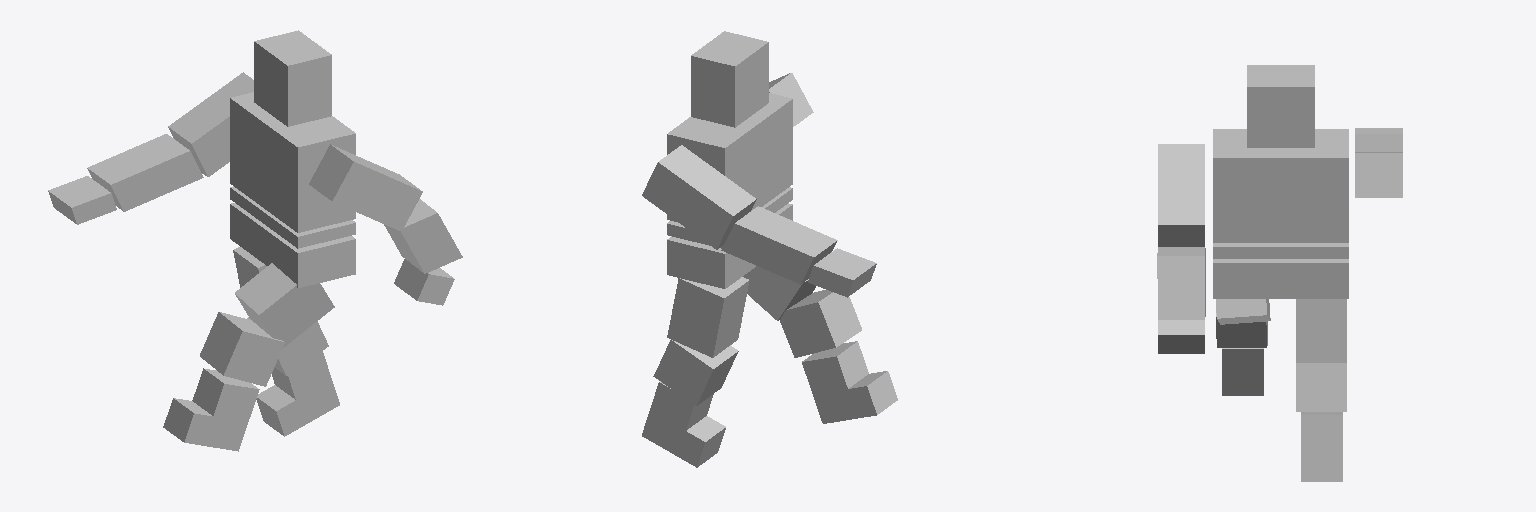
File: POne2.obj
3 views of the same model, side by side, from view 1: azimuth 30°, elevation 25°; view 2: azimuth 150°, elevation 25°; view 3: azimuth 270°, elevation 25° (orthographic).
Visible parts, largest first — view 1: pasted__pasted__pCube3 pasted__group3 group4, pCube4, pasted__pCube4 group6, pasted__pCube1 group5, pasted__pCube4 group8, pCube3, group2 pasted__pasted__pCube2 pasted__group1, pCube1, pasted__pCube2 group1, pasted__pCube4 group7, group8 pasted__pasted__pCube4 pasted__group6, pasted__pasted__pCube4 pasted__group8 group9 (+4 smaller); view 2: pasted__pasted__pCube3 pasted__group3 group4, pasted__pCube4 group7, pCube4, pasted__pCube1 group5, pasted__pCube4 group8, pasted__pCube2 group2, pCube1, pasted__pCube2 group1, pCube2, pCube3, pasted__pasted__pCube4 pasted__group8 group9, group2 pasted__pasted__pCube2 pasted__group1 (+2 smaller); view 3: pasted__pasted__pCube3 pasted__group3 group4, pCube4, pCube3, pasted__pCube4 group6, group8 pasted__pasted__pCube4 pasted__group6, pasted__pCube2 group2, pCube1, pCube2, pasted__pCube4 group7, pasted__pCube3 group3, pasted__pCube1 group5, pasted__group8 group9 pasted__pasted__pasted__pCube4 pasted__pas (+3 smaller).
Part boxes in pixels (left/top/right/bottom): pasted__pasted__pCube3 pasted__group3 group4: left=230, top=92, right=355, bottom=232; pCube4: left=254, top=30, right=331, bottom=126; pasted__pCube4 group6: left=309, top=144, right=422, bottom=231; pasted__pCube1 group5: left=163, top=368, right=259, bottom=451; pasted__pCube4 group8: left=87, top=134, right=203, bottom=211; pCube3: left=230, top=203, right=355, bottom=287; group2 pasted__pasted__pCube2 pasted__group1: left=235, top=263, right=334, bottom=347; pCube1: left=256, top=351, right=339, bottom=436; pasted__pCube2 group1: left=200, top=312, right=284, bottom=386; pasted__pCube4 group7: left=168, top=72, right=253, bottom=176; group8 pasted__pasted__pCube4 pasted__group6: left=384, top=199, right=462, bottom=273; pasted__pasted__pCube4 pasted__group8 group9: left=48, top=176, right=116, bottom=224; pasted__pasted__pCube3 pasted__group3 group4: left=667, top=93, right=792, bottom=221; pasted__pCube4 group7: left=642, top=145, right=756, bottom=249; pCube4: left=691, top=31, right=768, bottom=127; pasted__pCube1 group5: left=802, top=341, right=897, bottom=423; pasted__pCube4 group8: left=721, top=206, right=837, bottom=284; pasted__pCube2 group2: left=667, top=277, right=749, bottom=357; pCube1: left=642, top=381, right=725, bottom=467; pasted__pCube2 group1: left=780, top=290, right=861, bottom=357; pCube2: left=653, top=340, right=738, bottom=405; pCube3: left=667, top=203, right=792, bottom=288; pasted__pasted__pCube4 pasted__group8 group9: left=808, top=248, right=876, bottom=297; group2 pasted__pasted__pCube2 pasted__group1: left=743, top=266, right=815, bottom=320; pasted__pasted__pCube3 pasted__group3 group4: left=1213, top=129, right=1348, bottom=242; pCube4: left=1247, top=65, right=1314, bottom=147; pCube3: left=1213, top=259, right=1348, bottom=298; pasted__pCube4 group6: left=1158, top=144, right=1204, bottom=246; group8 pasted__pasted__pCube4 pasted__group6: left=1157, top=247, right=1205, bottom=319; pasted__pCube2 group2: left=1296, top=299, right=1346, bottom=362; pCube1: left=1301, top=412, right=1342, bottom=481; pCube2: left=1296, top=363, right=1346, bottom=411; pasted__pCube4 group7: left=1355, top=152, right=1402, bottom=197; pasted__pCube3 group3: left=1213, top=243, right=1348, bottom=258; pasted__pCube1 group5: left=1222, top=348, right=1263, bottom=395; pasted__group8 group9 pasted__pasted__pasted__pCube4 pasted__pas: left=1158, top=320, right=1204, bottom=353.
Size of the model in its own units: 5.02 by 6.49 by 3.64.